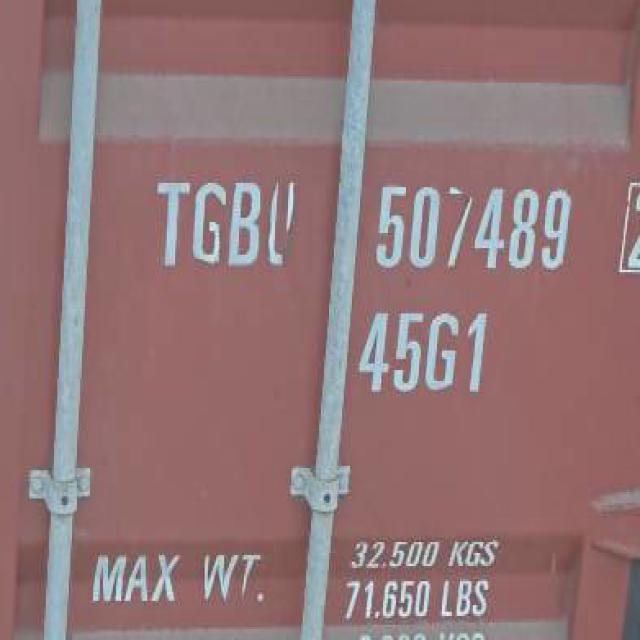dv: (599, 165, 640, 295)
owner: (134, 160, 323, 295)
serial: (356, 153, 580, 285)
size: (346, 295, 498, 416)
